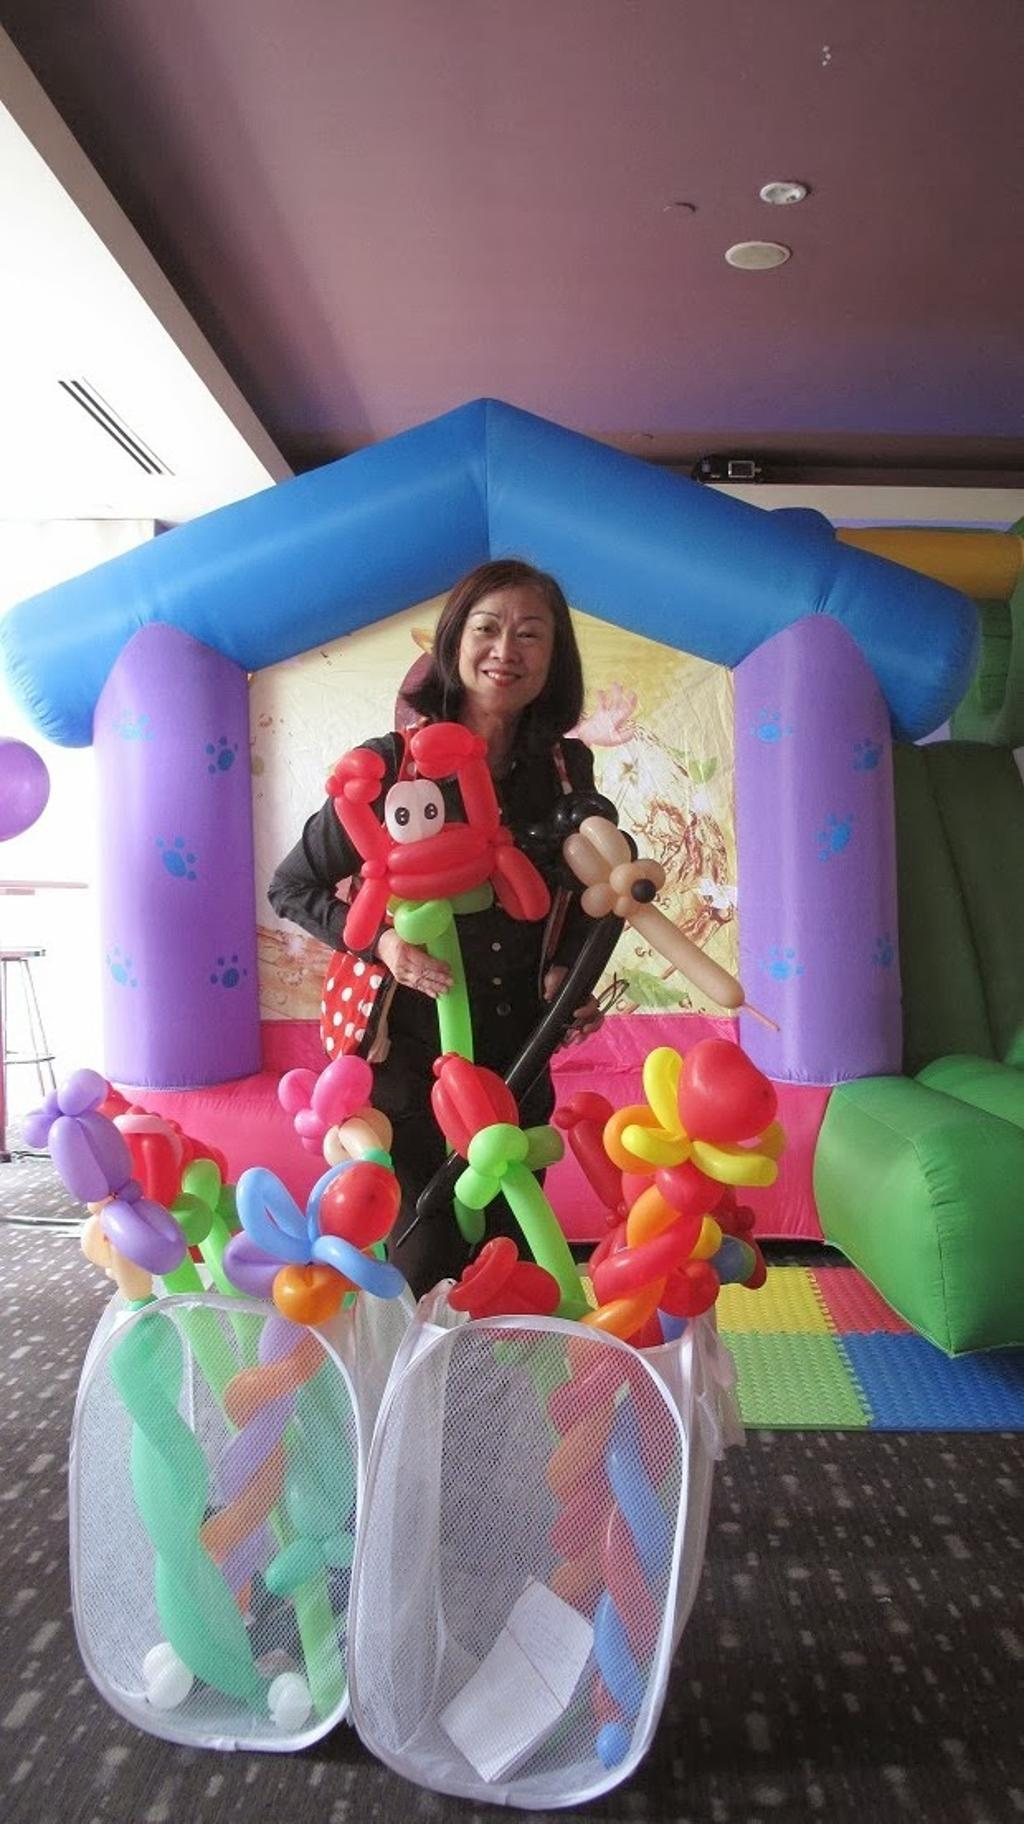face: (463, 584, 548, 716)
